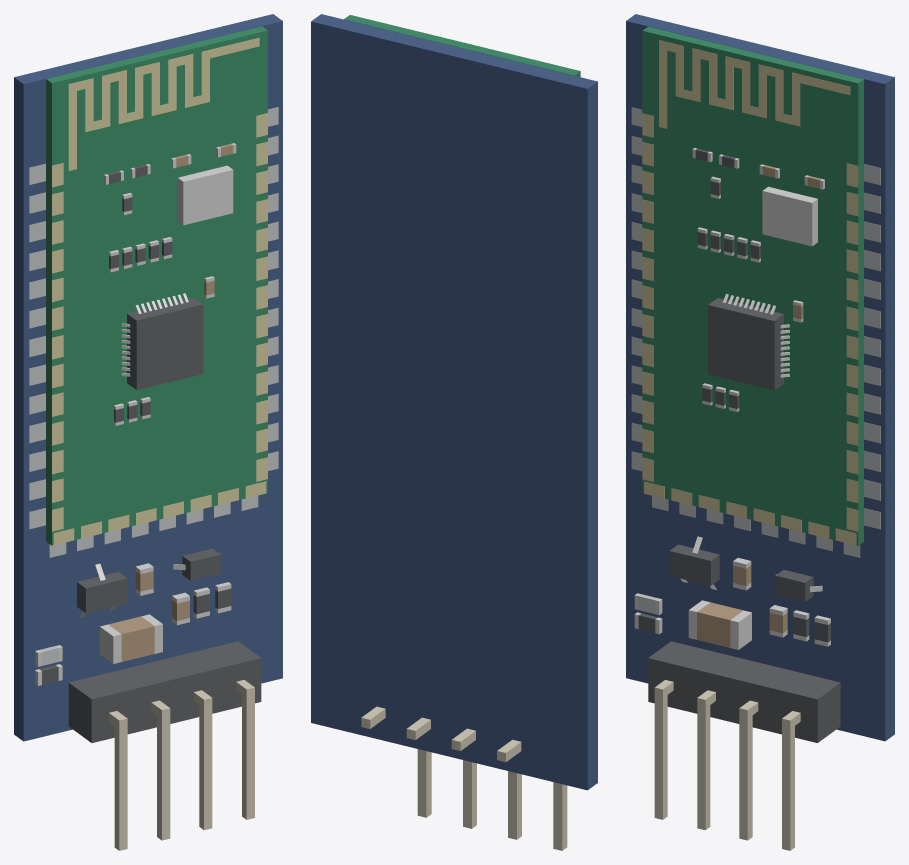
The model's file is SampleHW.glb.
The picture shows the model from 3 angles, left to right: view 1: azimuth 30°, elevation 25°; view 2: azimuth 150°, elevation 25°; view 3: azimuth 330°, elevation 25°; orthographic projection. The views are drawn at different scales.
Parts seen in each view (by area): view 1: Mesh_Mesh_head_geo.001_lambert2SG.001; view 2: Mesh_Mesh_head_geo.001_lambert2SG.001; view 3: Mesh_Mesh_head_geo.001_lambert2SG.001.
Part boxes in pixels (<box>): Mesh_Mesh_head_geo.001_lambert2SG.001: <box>14,14,282,850</box>; Mesh_Mesh_head_geo.001_lambert2SG.001: <box>311,14,597,850</box>; Mesh_Mesh_head_geo.001_lambert2SG.001: <box>626,14,894,850</box>.
Bounding box in the file's own units: 15.6 × 43.55 × 6.
